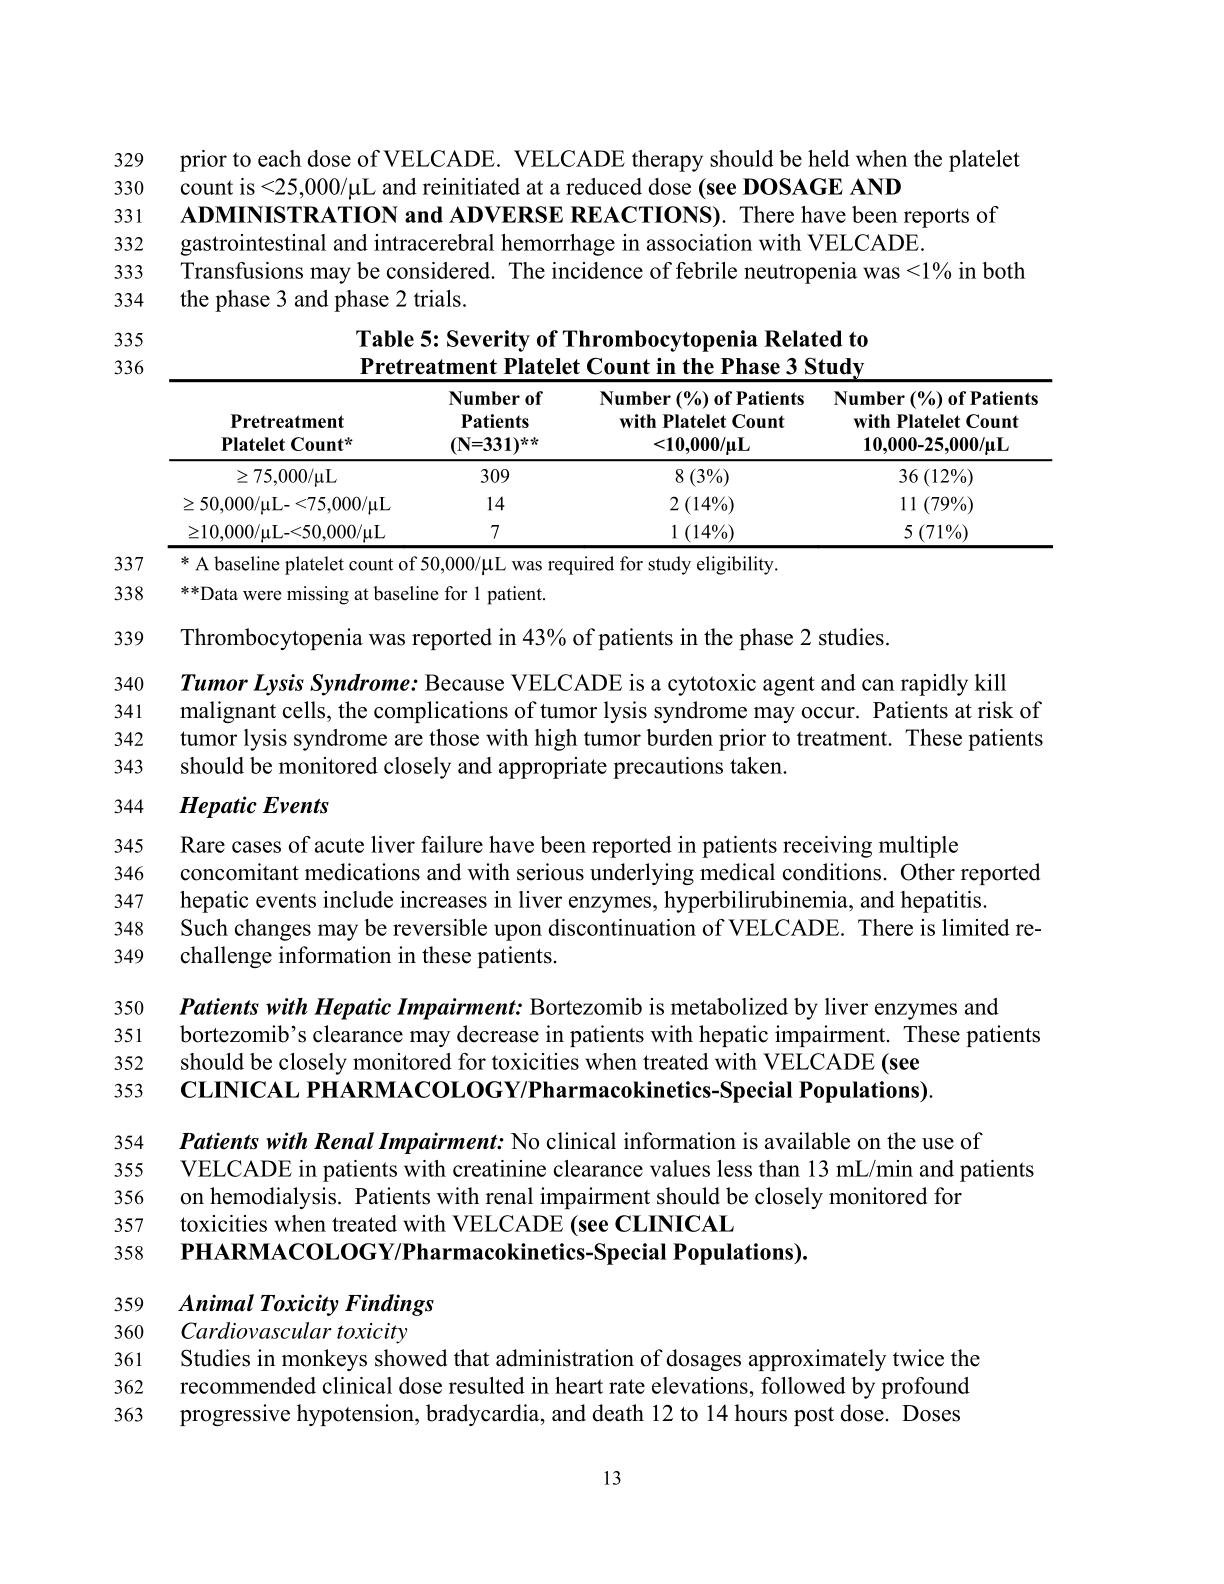partial_lined: (165, 378, 1050, 550)
